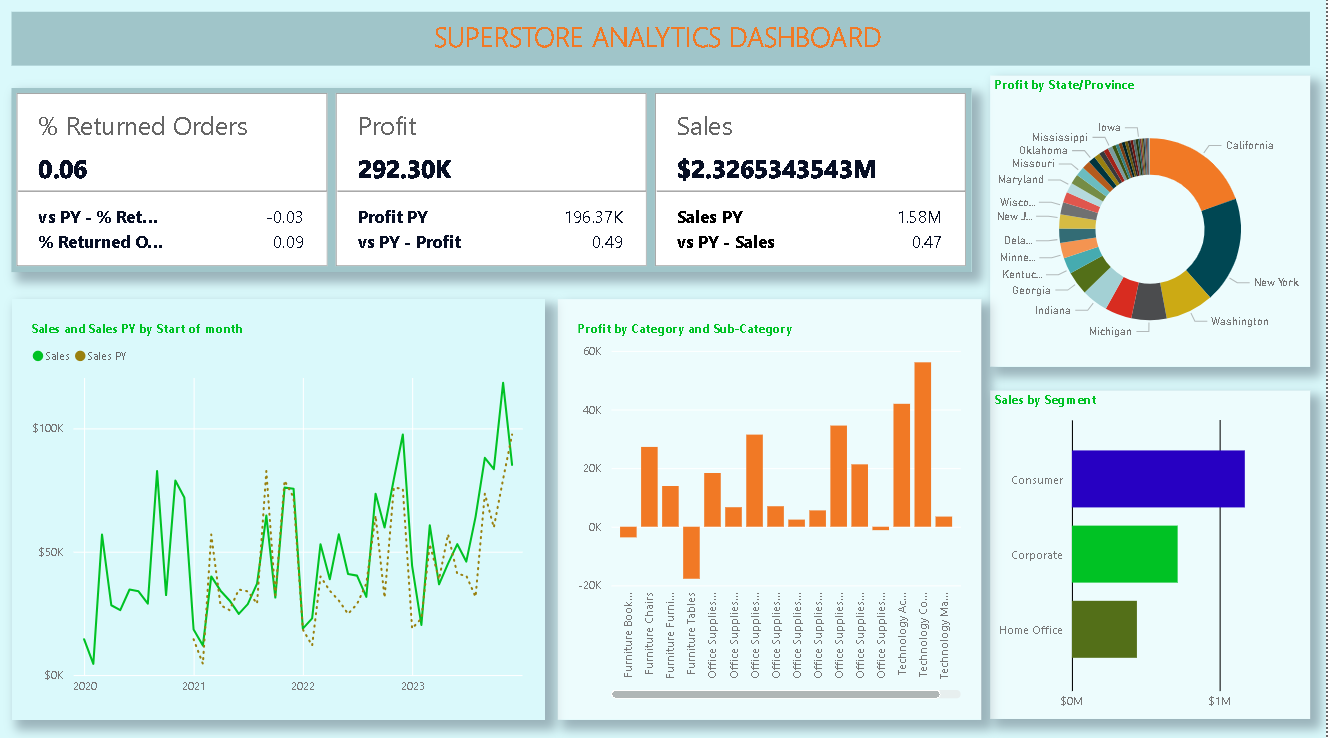

What the dashboard file says about the page in this screenshot:
{"tool":"powerbi","page":{"name":"Page 1","canvas":[1280,720],"ordinal":0},"visuals":[{"type":"cardVisual","fields":{"Data":["Key Measures.% Returned Orders","Key Measures.Profit","Key Measures.Sales"]},"box":[12.1,91.7,926.2,177.3],"z":0},{"type":"textbox","box":[12.3,17.8,1252.8,52.1],"z":1000},{"type":"lineChart","fields":{"Y":["Key Measures.Sales","Key Measures.Sales PY"],"Category":["Date Table.Start of month"]},"box":[12.1,295.5,515,405.2],"z":2000},{"type":"columnChart","fields":{"Category":["Orders.Category","Orders.Sub-Category"],"Y":["Key Measures.Profit"]},"box":[539.1,295.5,408.8,405.2],"z":3000},{"type":"donutChart","fields":{"Category":["Orders.State/Province"],"Y":["Key Measures.Profit"]},"box":[956.4,79.6,308.7,281],"z":4000},{"type":"clusteredBarChart","fields":{"Category":["Orders.Segment"],"Y":["Key Measures.Sales"]},"box":[956.4,383.5,308.7,317.2],"z":5000}]}

Visuals, with their boxes in screenshot pixels (x1, y1, x2, y2), scaled from the page's 1280x720 canvas onto the 1328x738 screenshot:
cardVisual - Key Measures.% Returned Orders x Key Measures.Profit: detection(13, 94, 973, 276)
textbox: detection(13, 18, 1313, 72)
lineChart - Key Measures.Sales x Key Measures.Sales PY: detection(13, 303, 547, 718)
columnChart - Orders.Category x Orders.Sub-Category: detection(559, 303, 983, 718)
donutChart - Orders.State/Province x Key Measures.Profit: detection(992, 82, 1313, 370)
clusteredBarChart - Orders.Segment x Key Measures.Sales: detection(992, 393, 1313, 718)
